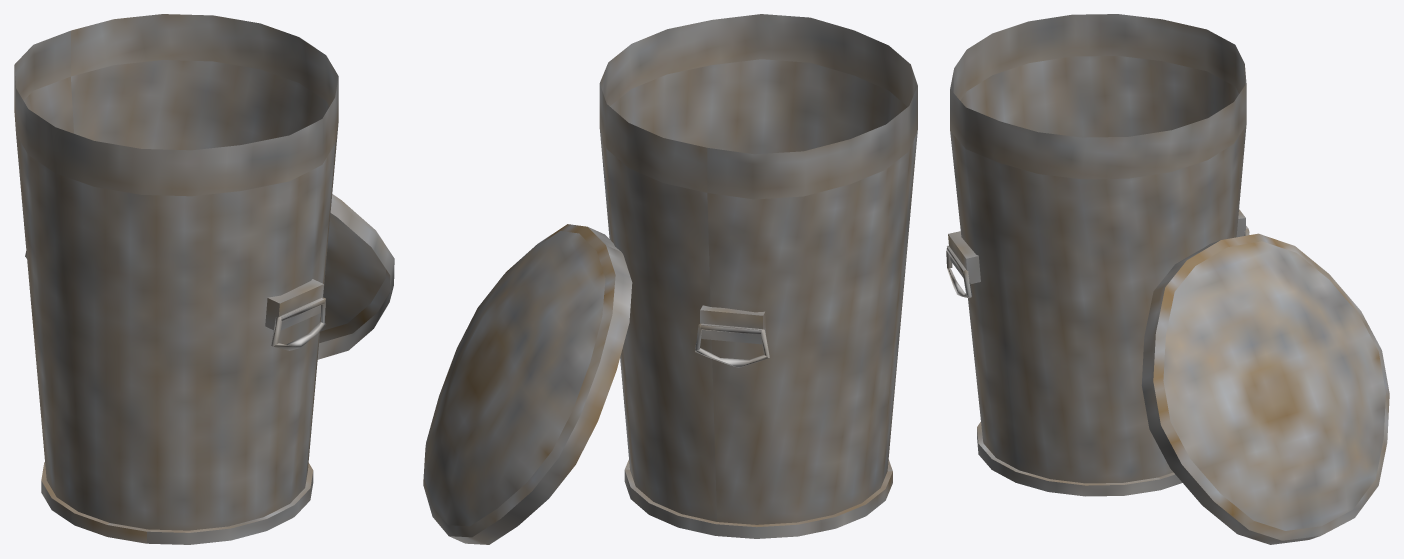
Rendered from dust_bin.fbx.
3 renders of one model, left to right at view 1: azimuth 30°, elevation 25°; view 2: azimuth 150°, elevation 25°; view 3: azimuth 270°, elevation 25°, orthographic. The views are drawn at different scales.
Parts seen in each view (by area): view 1: dust_bin; view 2: dust_bin; view 3: dust_bin.
Boxes of the visible parts, box(x1,y1,x2,y2) form: dust_bin: box(14, 14, 394, 544); dust_bin: box(423, 14, 917, 544); dust_bin: box(946, 14, 1389, 544).
Size of the model in its own units: 23.19 by 22.72 by 24.33.
